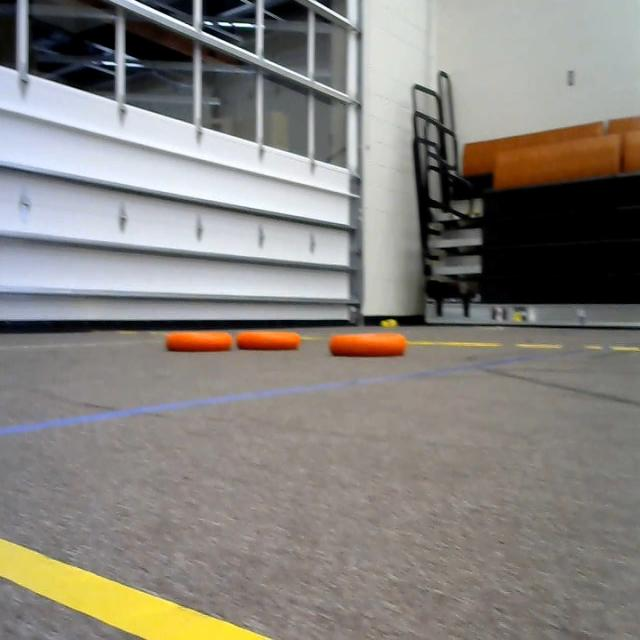note: (323, 323, 414, 359), (235, 320, 303, 358), (165, 330, 236, 360)
